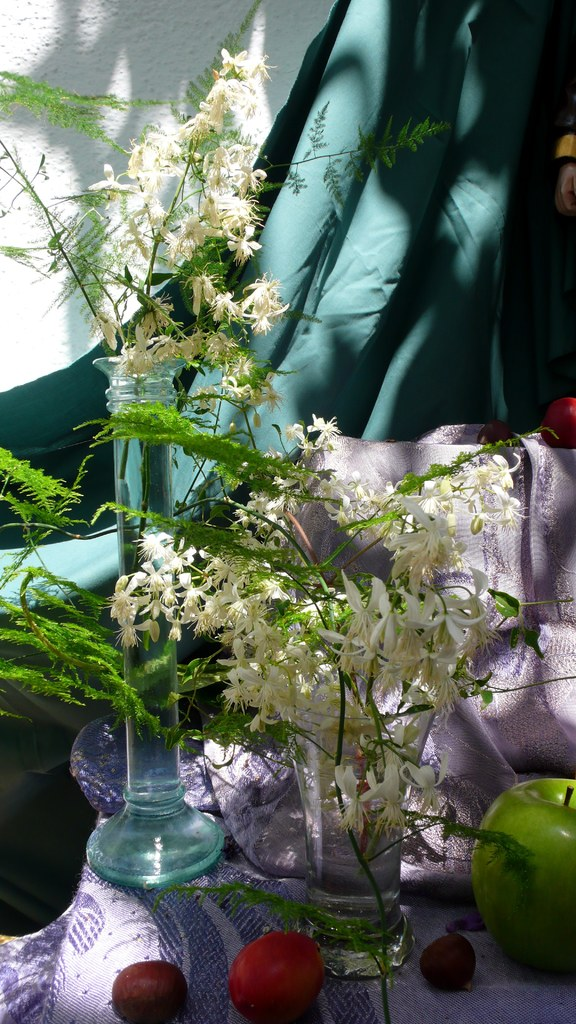Apple: (475, 817, 576, 976)
